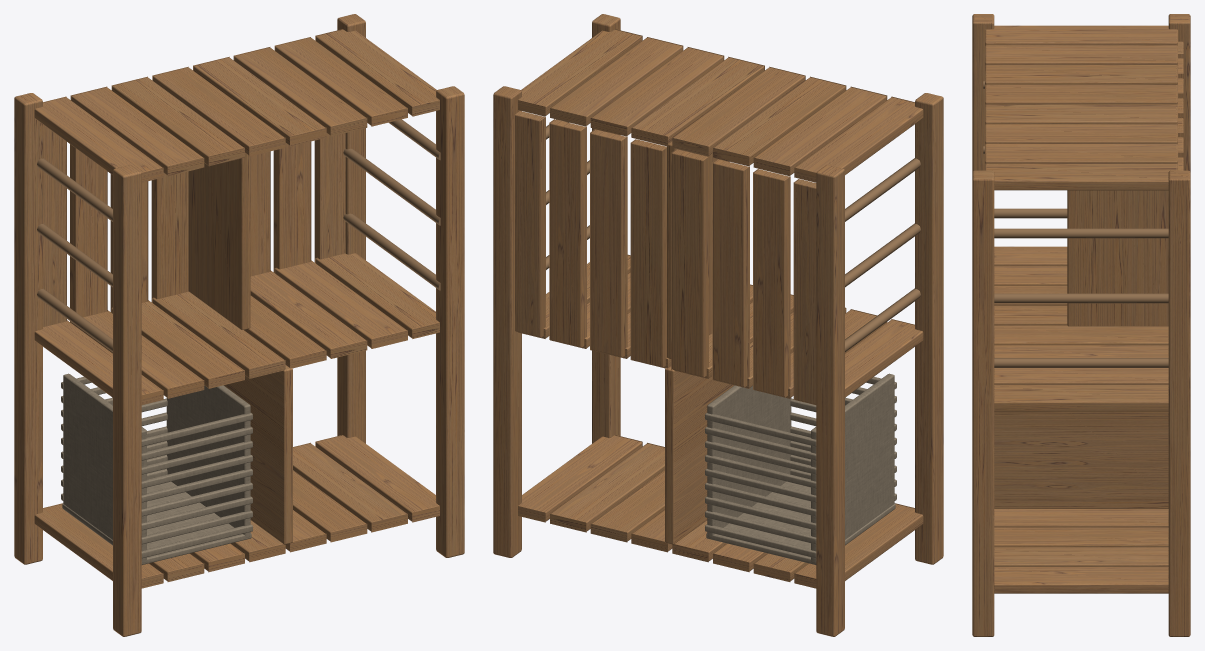
Rendered from outdoor-pool-towel-valet.glb.
The picture shows the model from 3 angles, left to right: view 1: azimuth 30°, elevation 25°; view 2: azimuth 150°, elevation 25°; view 3: azimuth 270°, elevation 25°; orthographic projection.
Parts seen in each view (by area): view 1: outdoor-pool-towel-valet authored assembly; view 2: outdoor-pool-towel-valet authored assembly; view 3: outdoor-pool-towel-valet authored assembly.
Part boxes in pixels (x1=…): outdoor-pool-towel-valet authored assembly: x1=14, y1=14, x2=464, y2=636; outdoor-pool-towel-valet authored assembly: x1=493, y1=14, x2=943, y2=636; outdoor-pool-towel-valet authored assembly: x1=972, y1=14, x2=1190, y2=636.
Size of the model in its own units: 0.9 by 1.16 by 0.5.
Materials: 5 (4 with a texture image).
